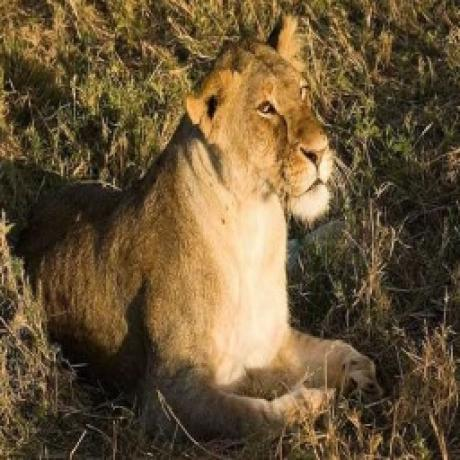Lion: (7, 19, 380, 429)
